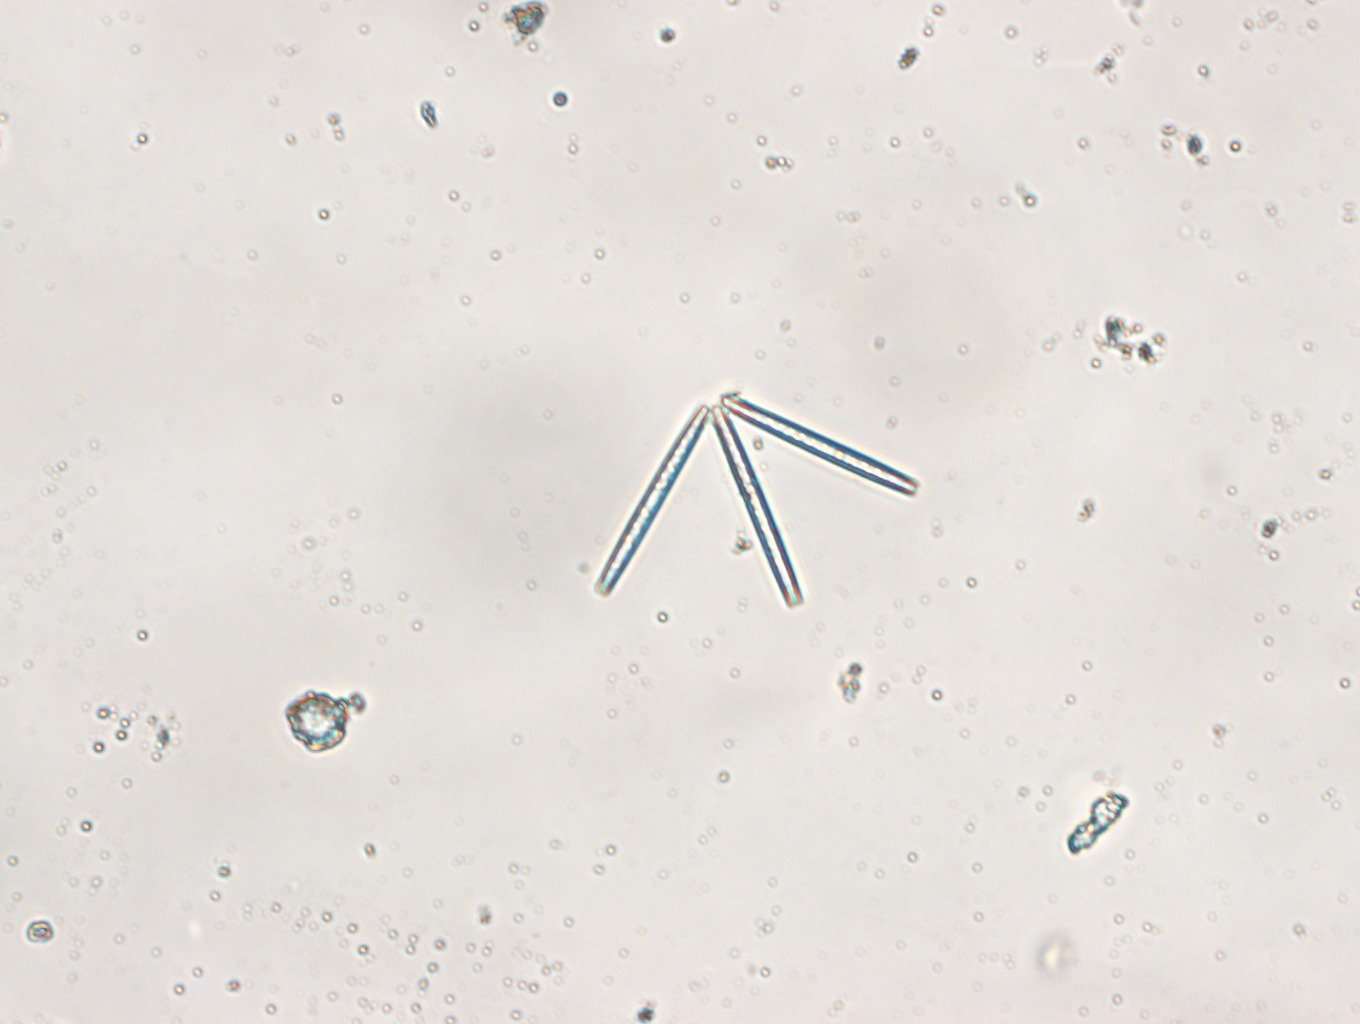thalassionema nitzschioides: (586, 384, 925, 620)
